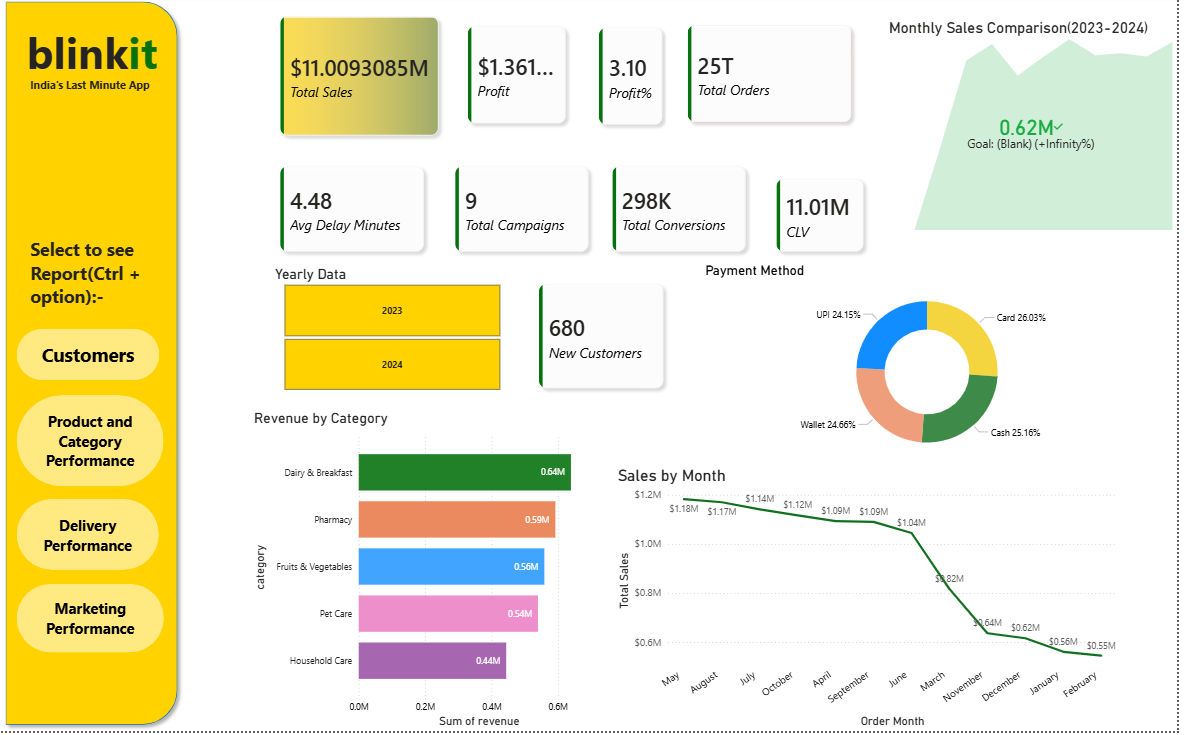

The dashboard page shown, as its layout file describes it:
{"tool":"powerbi","page":{"name":"executive","canvas":[1600,1000],"ordinal":0},"visuals":[{"type":"cardVisual","fields":{"Data":["Sum(category performance.profit)"]},"box":[608,13.6,191.9,190.2],"z":0},{"type":"cardVisual","fields":{"Data":["category performance.profit%"]},"box":[786.3,15.3,144.4,190.2],"z":1000},{"type":"cardVisual","fields":{"Data":["Sum(sales data.order_total)"]},"box":[353.3,0,273.4,220.8],"z":2000},{"type":"cardVisual","fields":{"Data":["Sum(sales data.order_id)"]},"box":[906.9,11.9,280.2,190.2],"z":3000},{"type":"kpi","title":"Monthly Sales Comparison(2023-2024)","fields":{"Indicator":["sales data.2023"],"Goal":["sales data.2024"],"TrendLine":["sales data.order_month"]},"box":[1204.2,32.3,395.7,292.1],"z":4000},{"type":"cardVisual","fields":{"Data":["Sum(customer_repeatation.clv)"]},"box":[1027.5,220.8,176.6,157.9],"z":5000},{"type":"cardVisual","fields":{"Data":["Avg(sentiment delay summary.avg_delay_mins)"]},"box":[353.3,203.8,253.1,174.9],"z":6000},{"type":"cardVisual","fields":{"Data":["customer_repeatation.new"]},"box":[704.8,363.5,227.6,200.4],"z":7000},{"type":"slicer","fields":{"Values":["sales data.year"]},"box":[361.8,363.5,343.1,180],"z":8000},{"type":"cardVisual","fields":{"Data":["Count(marketing performance.campaign_name)","Sum(marketing performance.conversions)"]},"box":[591,203.8,453.5,174.9],"z":9000},{"type":"lineChart","title":"Sales by Month","fields":{"Category":["sales data.order_mont"],"Y":["Sum(sales data.order_total)"]},"box":[835.6,640.3,687.8,360.1],"z":10000},{"type":"donutChart","title":"Payment Method","fields":{"Category":["sales data.payment_method"],"Y":["Sum(sales data.order_total)"]},"box":[954.5,363.5,613.1,276.8],"z":11000},{"type":"clusteredBarChart","title":"Revenue by Category","fields":{"Y":["Sum(category performance.revenue)"],"Category":["category performance.category"]},"box":[341.4,563.9,494.2,436.5],"z":12000},{"type":"shape","box":[0,0,251.4,1000.3],"z":13000},{"type":"textbox","box":[23.8,32.3,205.5,95.1],"z":14000},{"type":"textbox","box":[37.4,107,214,45.9],"z":15000},{"type":"actionButton","box":[24.3,452.9,194.3,70],"z":16000},{"type":"actionButton","box":[24.3,542.9,200,124.3],"z":17000},{"type":"actionButton","box":[23.8,684.4,193.6,96.8],"z":18000},{"type":"actionButton","box":[23.8,799.9,200.4,93.4],"z":19000},{"type":"textbox","box":[37.4,324.4,180,108.7],"z":19001}]}

Visuals, with their boxes in screenshot pixels (x1, y1, x2, y2), scaled from the page's 1600x1000 canvas onto the 1184x735 screenshot:
cardVisual - Sum(category performance.profit): <box>450,10,592,150</box>
cardVisual - category performance.profit%: <box>582,11,689,151</box>
cardVisual - Sum(sales data.order_total): <box>261,0,464,162</box>
cardVisual - Sum(sales data.order_id): <box>671,9,878,149</box>
"Monthly Sales Comparison(2023-2024)" kpi: <box>891,24,1183,238</box>
cardVisual - Sum(customer_repeatation.clv): <box>760,162,891,278</box>
cardVisual - Avg(sentiment delay summary.avg_delay_mins): <box>261,150,449,278</box>
cardVisual - customer_repeatation.new: <box>522,267,690,414</box>
slicer - sales data.year: <box>268,267,522,399</box>
cardVisual - Count(marketing performance.campaign_name) x Sum(marketing performance.conversions): <box>437,150,773,278</box>
"Sales by Month" lineChart: <box>618,471,1127,734</box>
"Payment Method" donutChart: <box>706,267,1160,471</box>
"Revenue by Category" clusteredBarChart: <box>253,414,618,734</box>
shape: <box>0,0,186,734</box>
textbox: <box>18,24,170,94</box>
textbox: <box>28,79,186,112</box>
actionButton: <box>18,333,162,384</box>
actionButton: <box>18,399,166,490</box>
actionButton: <box>18,503,161,574</box>
actionButton: <box>18,588,166,657</box>
textbox: <box>28,238,161,318</box>
